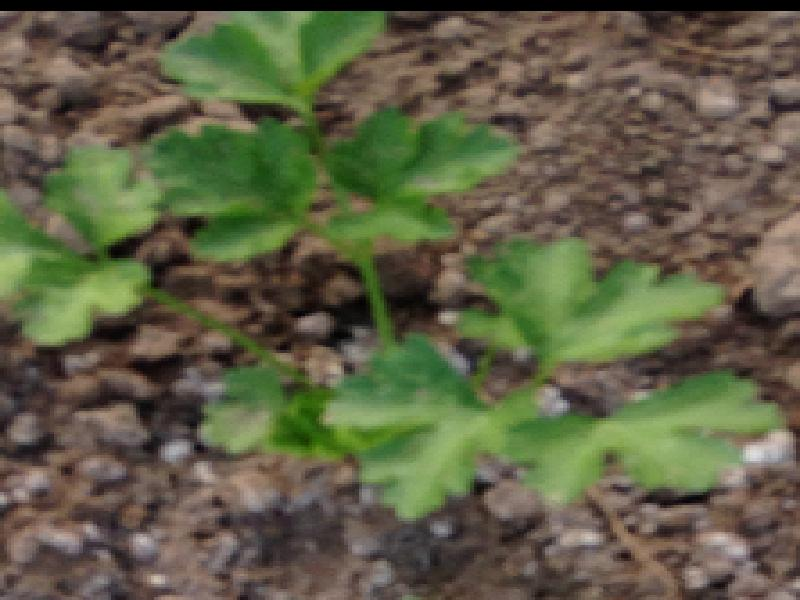radish: (0, 96, 680, 561)
